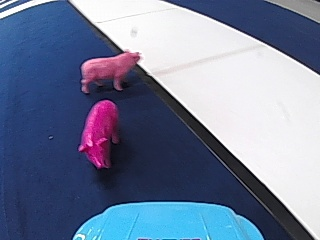pig: (79, 96, 118, 170), (77, 49, 138, 92)
